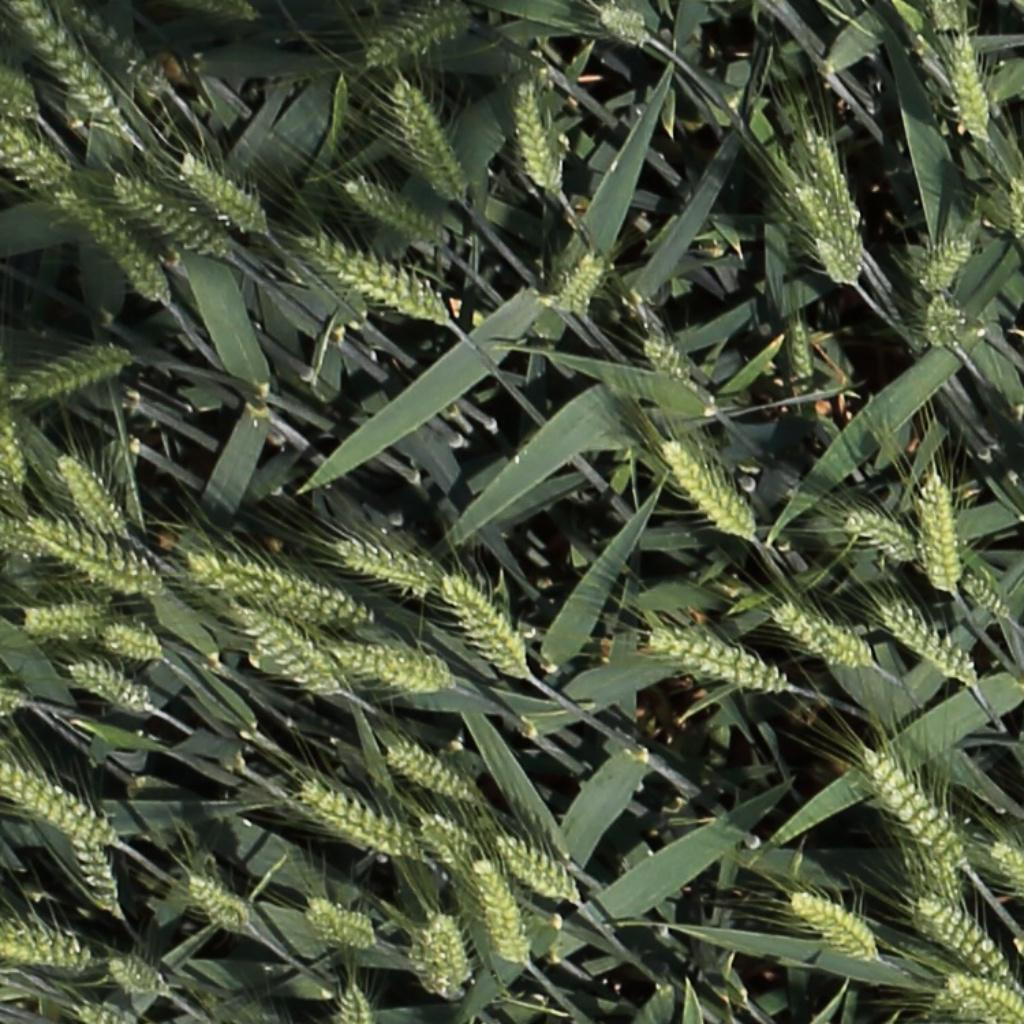0-0: (184, 557, 371, 626), (295, 235, 446, 320), (860, 752, 966, 871), (54, 188, 165, 300), (19, 10, 124, 128), (31, 522, 161, 597), (659, 439, 755, 539), (109, 174, 226, 256), (230, 603, 335, 694), (394, 76, 466, 206), (0, 764, 111, 846), (916, 897, 1017, 987), (176, 151, 276, 241), (441, 576, 528, 677), (300, 787, 416, 861), (342, 180, 456, 255), (644, 632, 786, 690), (879, 603, 976, 685), (786, 891, 887, 963), (73, 10, 163, 90), (512, 77, 569, 200), (13, 343, 136, 398), (53, 449, 124, 539), (471, 854, 527, 968), (791, 177, 860, 267), (804, 126, 860, 233), (364, 4, 460, 65), (775, 607, 871, 667), (917, 471, 962, 594), (492, 838, 576, 903), (385, 745, 472, 804), (1, 126, 70, 200), (330, 649, 449, 690), (66, 830, 120, 920), (63, 657, 147, 714), (0, 923, 87, 976), (951, 30, 989, 150), (331, 543, 432, 588), (422, 814, 487, 882), (404, 924, 458, 1004), (424, 907, 469, 995), (181, 876, 247, 931), (843, 513, 917, 562), (918, 232, 974, 293), (557, 247, 603, 315), (809, 230, 861, 290), (17, 606, 114, 638), (102, 957, 170, 998), (1, 415, 30, 508), (638, 334, 692, 383), (961, 573, 1013, 622), (786, 312, 813, 395), (988, 845, 1024, 906), (96, 626, 161, 659), (595, 6, 649, 44), (301, 899, 339, 951), (925, 288, 955, 353), (337, 974, 374, 1024), (0, 520, 47, 557), (335, 910, 374, 948), (929, 0, 965, 39), (1003, 182, 1024, 240), (73, 1003, 129, 1024)
